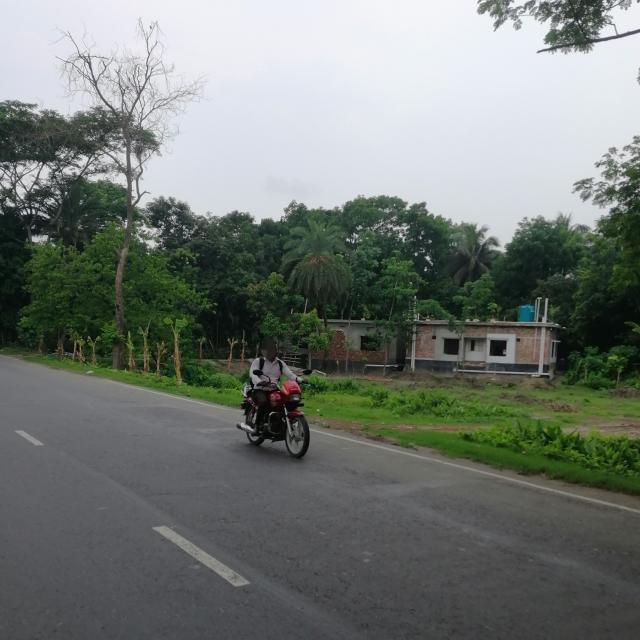Motorbike: (233, 371, 322, 465)
